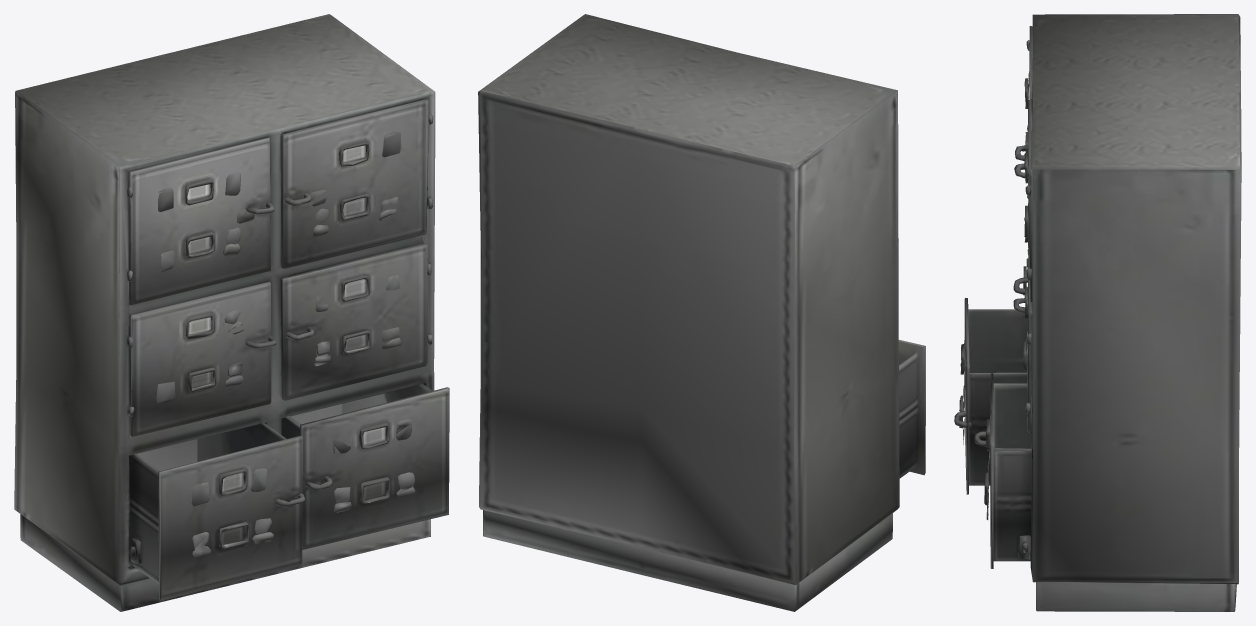
The model's file is morgue_cab.glb.
3 renders of one model, left to right at view 1: azimuth 30°, elevation 25°; view 2: azimuth 150°, elevation 25°; view 3: azimuth 270°, elevation 25°, orthographic.
Size of the model in its own units: 0.7414 by 0.9985 by 0.583.
Materials: 1 (1 with a texture image).
